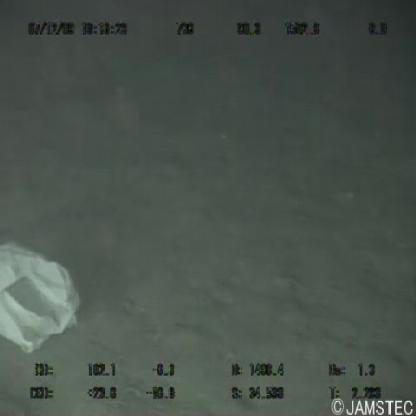Rác: (1, 230, 83, 356)
